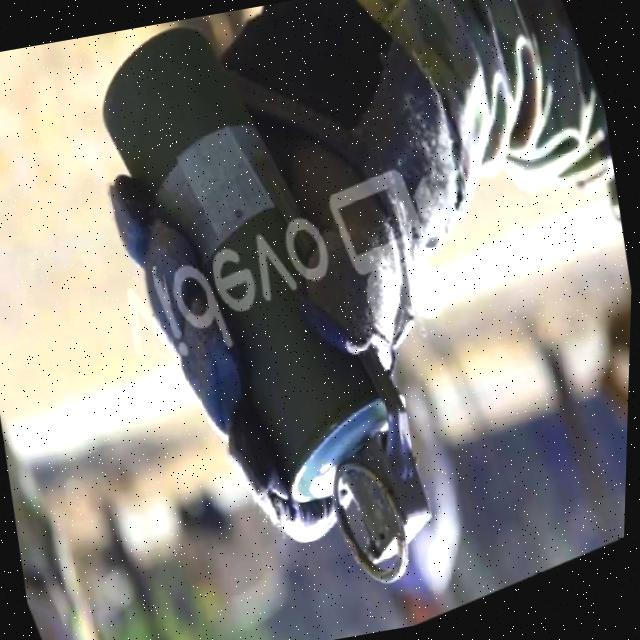grenade: (55, 0, 488, 640)
